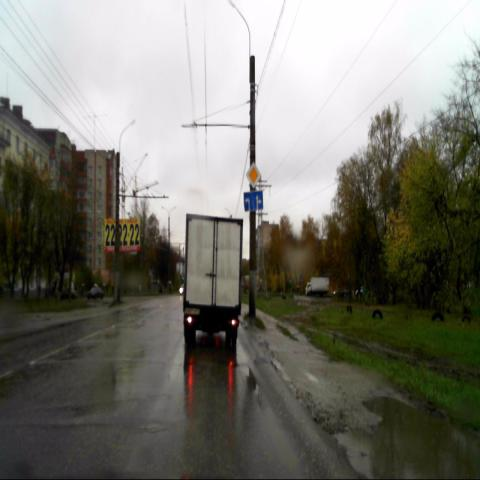2_1: (245, 160, 262, 188)
5_15_2_2: (244, 191, 263, 211)
